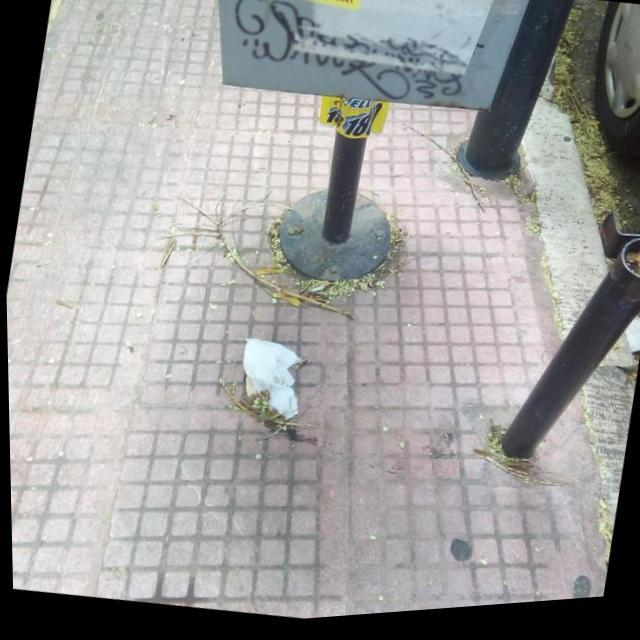-: (220, 0, 474, 129)
